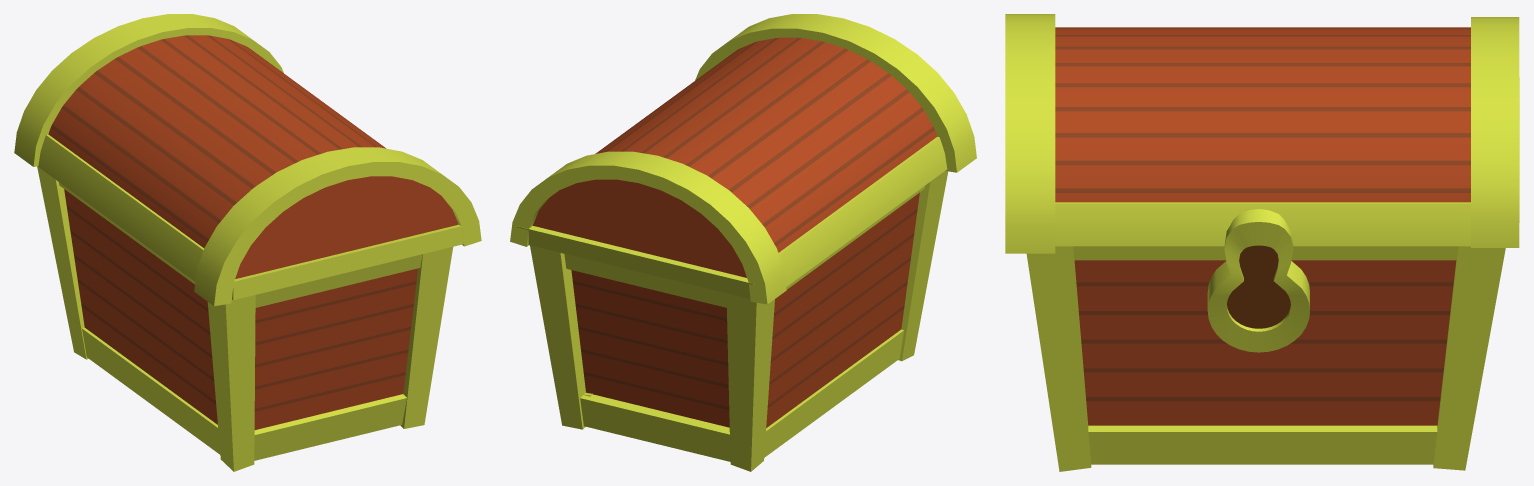
The model's file is TreasureChest.fbx.
3 views of the same model, side by side, from view 1: azimuth 30°, elevation 25°; view 2: azimuth 150°, elevation 25°; view 3: azimuth 270°, elevation 25° (orthographic). The views are drawn at different scales.
Visible parts, largest first — view 1: TreasureChest; view 2: TreasureChest; view 3: TreasureChest.
Part boxes in pixels (box(x1,y1,x2,y2)): TreasureChest: box(14, 14, 481, 471); TreasureChest: box(510, 14, 976, 471); TreasureChest: box(1005, 14, 1519, 471).
Size of the model in its own units: 1.08 by 1.16 by 1.44.
